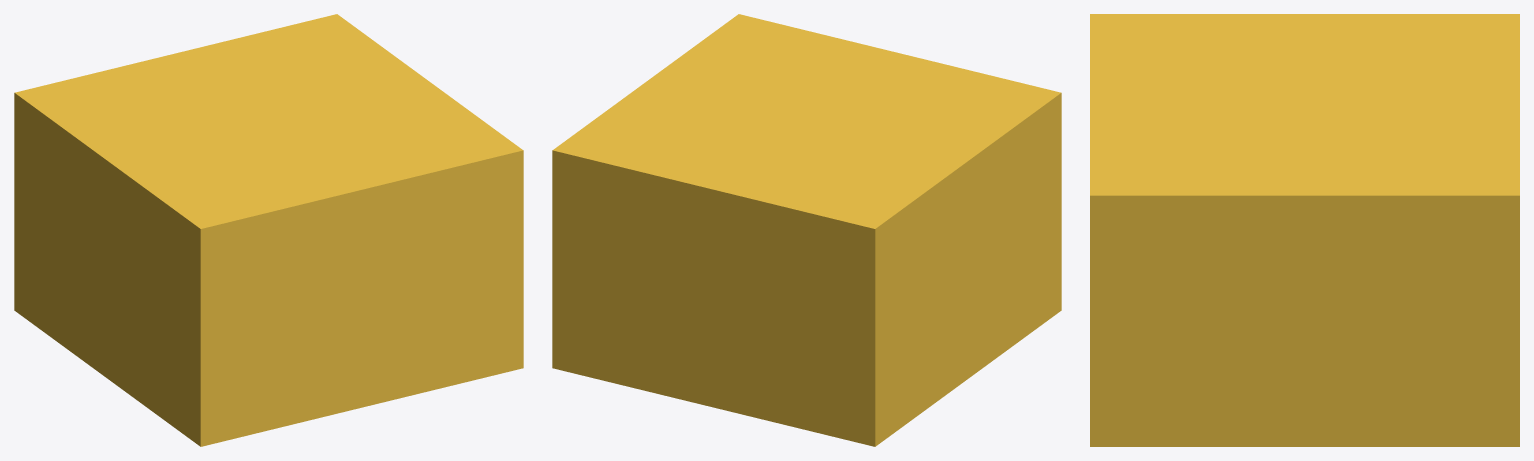
Rendered from monge_manga_sup.glb.
3 renders of one model, left to right at view 1: azimuth 30°, elevation 25°; view 2: azimuth 150°, elevation 25°; view 3: azimuth 270°, elevation 25°, orthographic. The views are drawn at different scales.
Parts seen in each view (by area): view 1: monge_manga_sup; view 2: monge_manga_sup; view 3: monge_manga_sup.
Part boxes in pixels (bbox=[...]): monge_manga_sup: bbox=[14, 14, 523, 446]; monge_manga_sup: bbox=[552, 14, 1061, 446]; monge_manga_sup: bbox=[1090, 14, 1519, 446].
Bounding box in the file's own units: 0.31 × 0.2 × 0.31.
